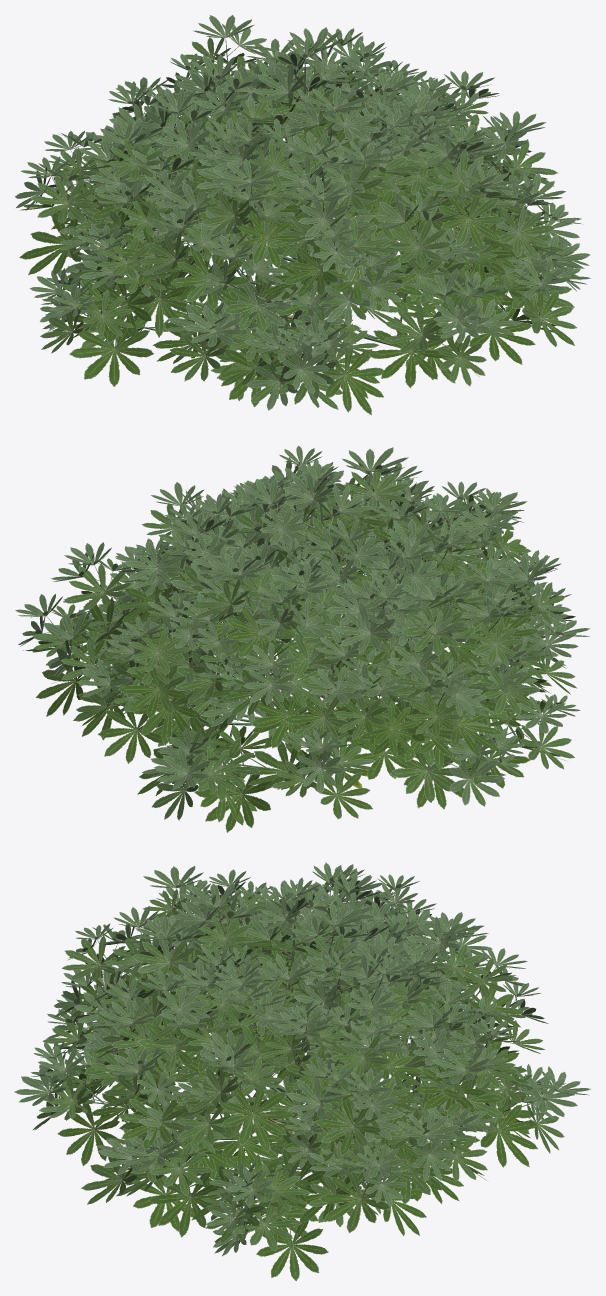
The model's file is Lupinus arboreus HD_Standard no flower mat 0_LOD3.fbx.
3 renders of one model, top to bottom at view 1: azimuth 30°, elevation 25°; view 2: azimuth 150°, elevation 25°; view 3: azimuth 270°, elevation 25°, orthographic. The views are drawn at different scales.
Visible parts, largest first — view 1: Lupinus_arboreus_HD; view 2: Lupinus_arboreus_HD; view 3: Lupinus_arboreus_HD.
Part boxes in pixels (<box>): Lupinus_arboreus_HD: <box>15,15,590,415</box>; Lupinus_arboreus_HD: <box>15,445,589,832</box>; Lupinus_arboreus_HD: <box>14,862,590,1281</box>.
Bounding box in the file's own units: 1.27 × 0.6988 × 1.26.
Materials: 13 (13 with a texture image).
